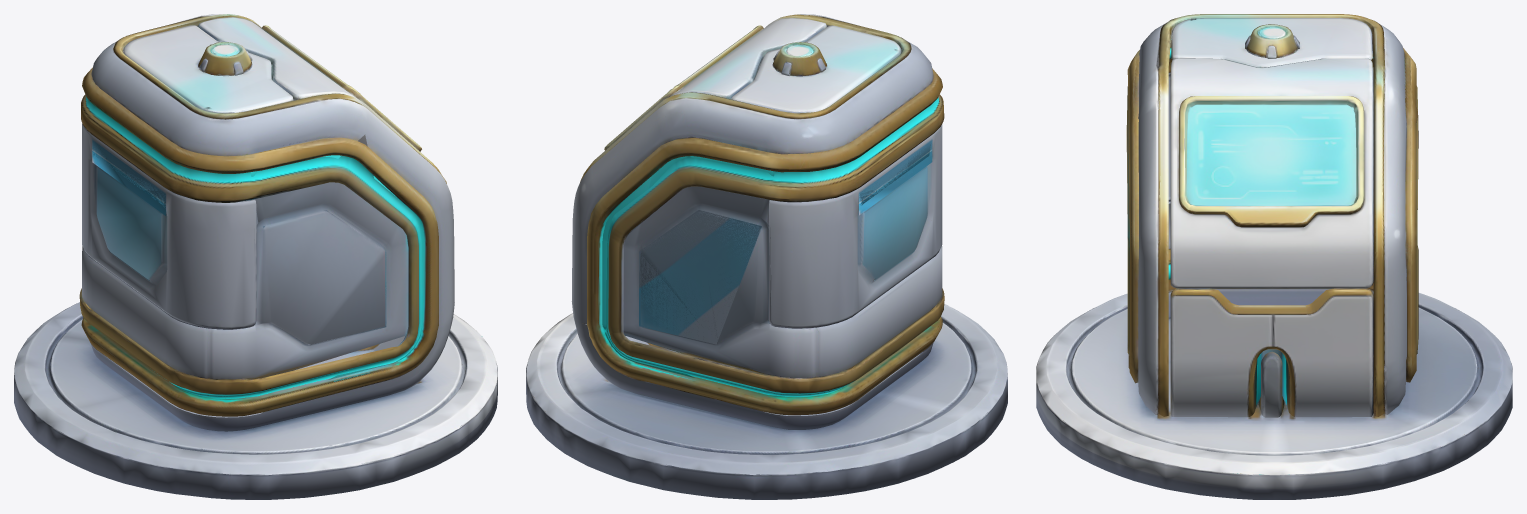
File: maquina-recomendar.glb
3 views of the same model, side by side, from view 1: azimuth 30°, elevation 25°; view 2: azimuth 150°, elevation 25°; view 3: azimuth 270°, elevation 25° (orthographic).
Visible parts, largest first — view 1: tripo_node_e7344e62-cef1-4c31-adb6-5fe3da2dc308; view 2: tripo_node_e7344e62-cef1-4c31-adb6-5fe3da2dc308; view 3: tripo_node_e7344e62-cef1-4c31-adb6-5fe3da2dc308.
Boxes of the visible parts, x1=… form: tripo_node_e7344e62-cef1-4c31-adb6-5fe3da2dc308: x1=14, y1=14, x2=497, y2=499; tripo_node_e7344e62-cef1-4c31-adb6-5fe3da2dc308: x1=526, y1=14, x2=1007, y2=499; tripo_node_e7344e62-cef1-4c31-adb6-5fe3da2dc308: x1=1036, y1=14, x2=1512, y2=499.
Bounding box in the file's own units: 0.1838 × 0.15 × 0.1838.
Materials: 1 (1 with a texture image).
